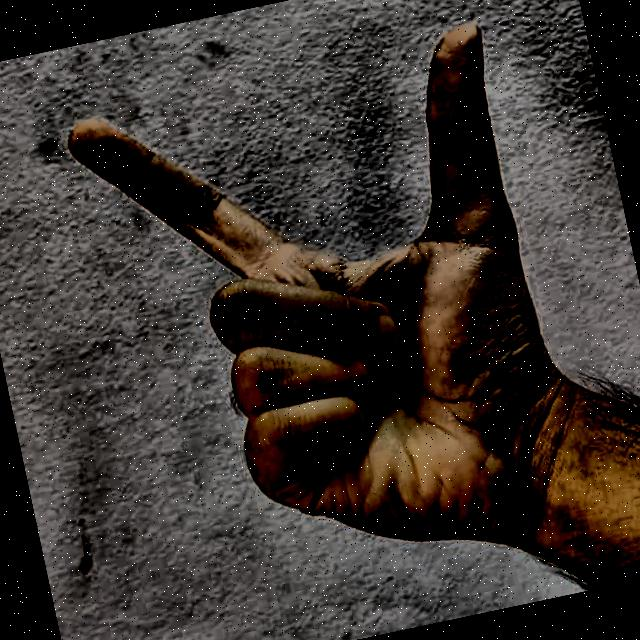ChandraBindu: (35, 0, 626, 634)
